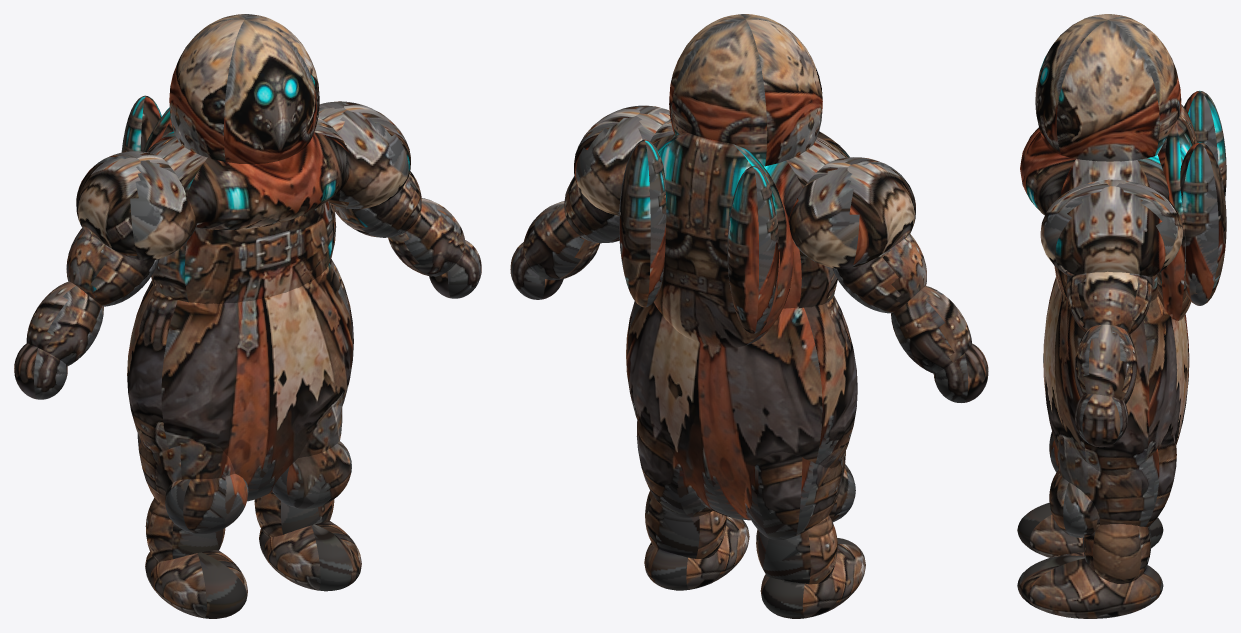
Rendered from ashland-survivor-r15.glb.
The picture shows the model from 3 angles, left to right: view 1: azimuth 30°, elevation 25°; view 2: azimuth 150°, elevation 25°; view 3: azimuth 270°, elevation 25°; orthographic projection. The views are drawn at different scales.
Parts seen in each view (by area): view 1: Hero | torn coat volume, Hero | hood and gas mask mass, Hero | armored torso, Hero | scarf and collar mass, Hero | shoulder pauldron L, Hero | shoulder pauldron R, Hero | scavenger boot L, Hero | scavenger boot R, Hero | armored forearm L, Hero | upper sleeve L, Hero | knee plate L, Hero | armored forearm R (+9 smaller); view 2: Hero | torn coat volume, Hero | hood and gas mask mass, Hero | rear pack volume, Hero | shoulder pauldron L, Hero | reactor tank L, Hero | thigh L, Hero | reactor tank R, Hero | shoulder pauldron R, Hero | armored forearm L, Hero | upper sleeve L, Hero | scavenger boot L, Hero | wrapped shin L (+10 smaller); view 3: Hero | hood and gas mask mass, Hero | torn coat volume, Hero | shoulder pauldron R, Hero | scavenger boot R, Hero | reactor tank R, Hero | thigh R, Hero | scarf and collar mass, Hero | upper sleeve R, Hero | armored forearm R, Hero | rear pack volume, Hero | wrapped shin R, Hero | scavenger boot L (+4 smaller).
Part boxes in pixels (bbox=[...]): Hero | torn coat volume: bbox=[127, 259, 353, 501]; Hero | hood and gas mask mass: bbox=[169, 14, 319, 164]; Hero | armored torso: bbox=[151, 201, 336, 303]; Hero | scarf and collar mass: bbox=[147, 118, 351, 229]; Hero | shoulder pauldron L: bbox=[76, 151, 196, 260]; Hero | shoulder pauldron R: bbox=[318, 101, 410, 208]; Hero | scavenger boot L: bbox=[145, 550, 247, 618]; Hero | scavenger boot R: bbox=[259, 521, 361, 591]; Hero | armored forearm L: bbox=[26, 281, 103, 365]; Hero | upper sleeve L: bbox=[66, 228, 159, 306]; Hero | knee plate L: bbox=[165, 473, 248, 533]; Hero | armored forearm R: bbox=[388, 198, 465, 276]; Hero | torn coat volume: bbox=[626, 295, 857, 520]; Hero | hood and gas mask mass: bbox=[669, 14, 822, 166]; Hero | rear pack volume: bbox=[654, 133, 793, 347]; Hero | shoulder pauldron L: bbox=[788, 157, 915, 269]; Hero | reactor tank L: bbox=[727, 166, 779, 333]; Hero | thigh L: bbox=[744, 451, 845, 540]; Hero | reactor tank R: bbox=[619, 139, 666, 307]; Hero | shoulder pauldron R: bbox=[574, 105, 670, 215]; Hero | armored forearm L: bbox=[891, 286, 971, 373]; Hero | upper sleeve L: bbox=[832, 234, 926, 313]; Hero | scavenger boot L: bbox=[760, 538, 865, 618]; Hero | wrapped shin L: bbox=[756, 515, 837, 584]; Hero | hood and gas mask mass: bbox=[1035, 14, 1181, 161]; Hero | torn coat volume: bbox=[1043, 277, 1189, 475]; Hero | shoulder pauldron R: bbox=[1040, 179, 1183, 276]; Hero | scavenger boot R: bbox=[1017, 552, 1163, 618]; Hero | reactor tank R: bbox=[1180, 142, 1226, 305]; Hero | thigh R: bbox=[1057, 434, 1176, 526]; Hero | scarf and collar mass: bbox=[1020, 127, 1169, 215]; Hero | upper sleeve R: bbox=[1066, 271, 1152, 334]; Hero | armored forearm R: bbox=[1074, 324, 1136, 403]; Hero | rear pack volume: bbox=[1157, 104, 1197, 320]; Hero | wrapped shin R: bbox=[1083, 524, 1151, 583]; Hero | scavenger boot L: bbox=[1017, 502, 1163, 557].
Size of the model in its own units: 1.78 by 2.09 by 0.702.
Materials: 4 (4 with a texture image).
